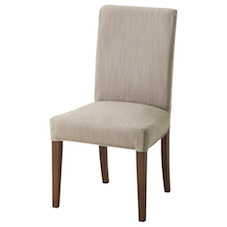chair: (40, 4, 206, 225)
